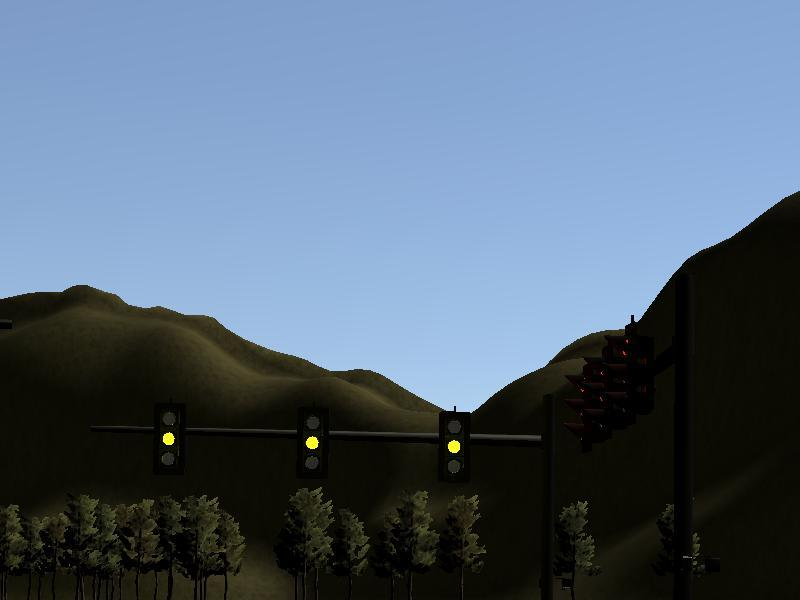Yellow: (154, 402, 186, 476), (297, 406, 328, 475), (439, 411, 469, 479)
